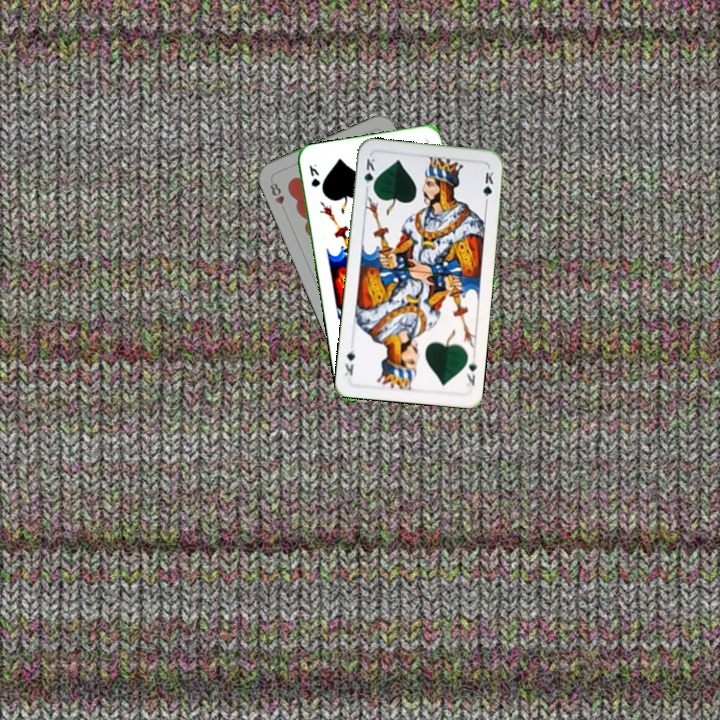GK: (360, 154, 377, 194), (462, 356, 479, 391), (305, 160, 323, 189)
H8: (266, 179, 287, 207)
